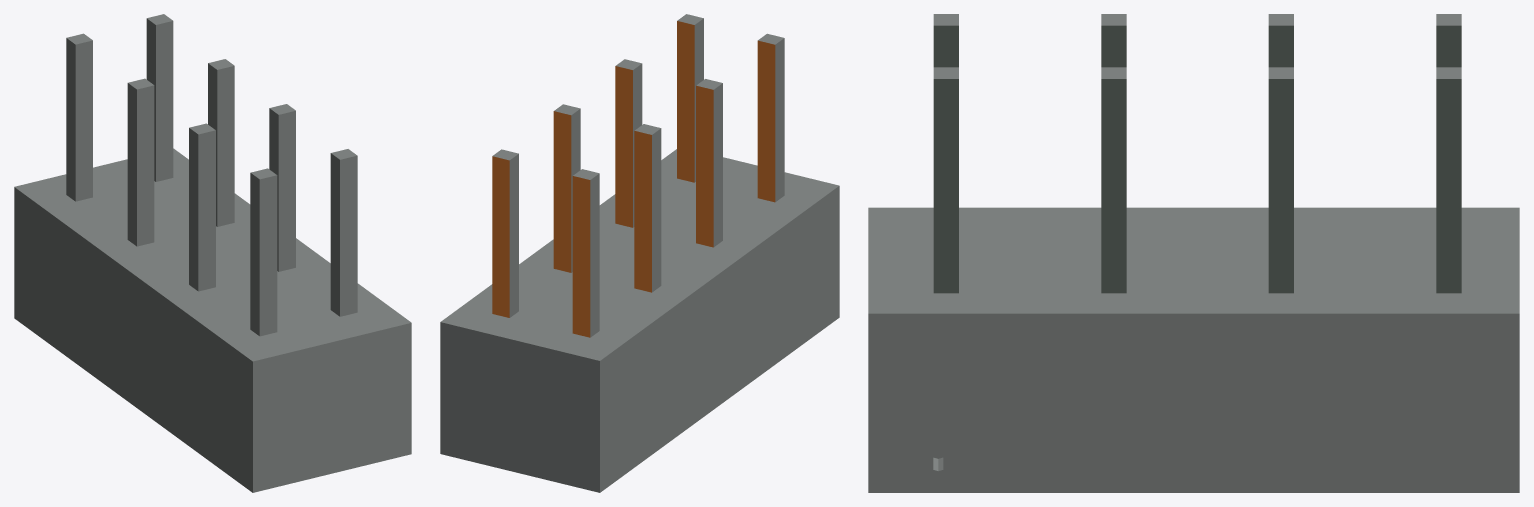
3 views of the same model, side by side, from view 1: azimuth 30°, elevation 25°; view 2: azimuth 150°, elevation 25°; view 3: azimuth 270°, elevation 25° (orthographic). The views are drawn at different scales.
Visible parts, largest first — view 1: Cube.002; view 2: Cube.002; view 3: Cube.002.
Boxes of the visible parts, left/top/right/bottom form: Cube.002: left=14, top=14, right=411, bottom=492; Cube.002: left=440, top=14, right=839, bottom=492; Cube.002: left=868, top=14, right=1519, bottom=492.
Bounding box in the file's own units: 167 × 290 × 434.
